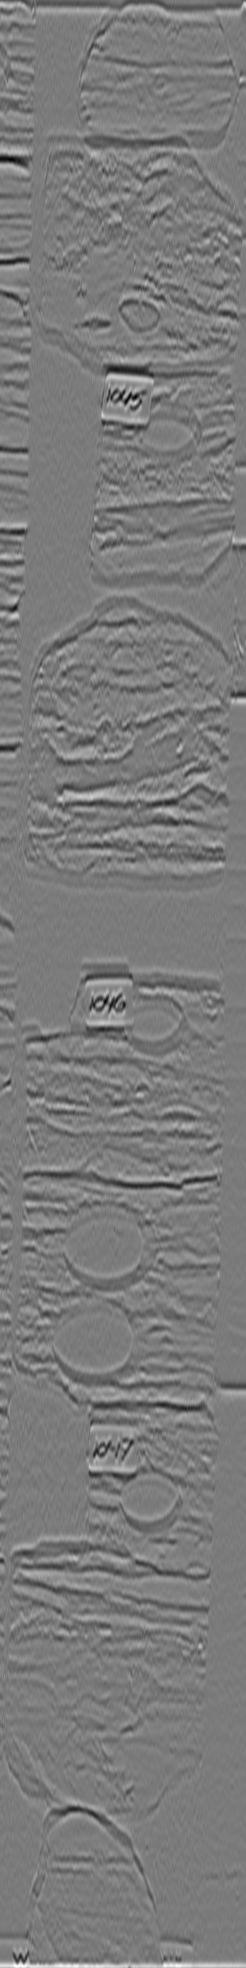hplug: (113, 1460, 187, 1535), (118, 987, 187, 1058), (134, 394, 201, 466)
scal: (46, 1290, 148, 1384), (58, 1199, 159, 1291)
vplug: (11, 1406, 99, 1563), (36, 1027, 109, 1179)
